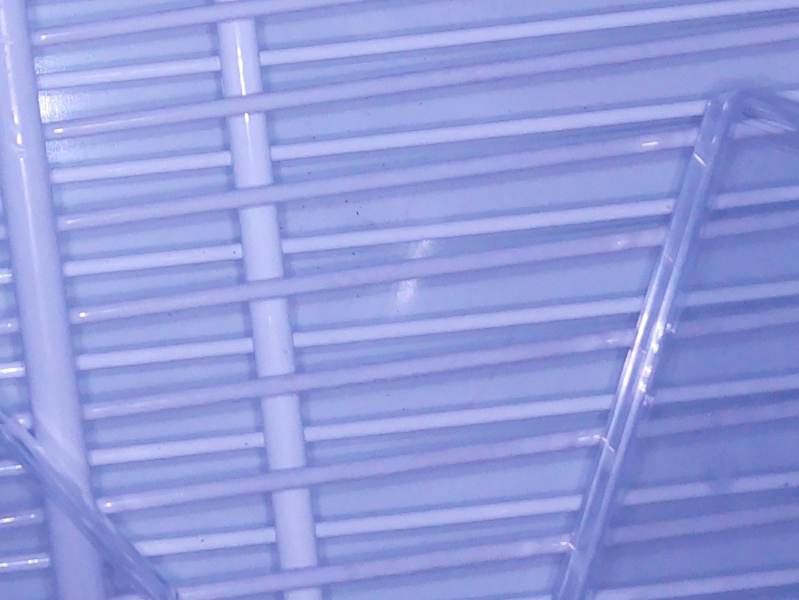plate: (555, 90, 799, 600), (1, 408, 179, 600)
